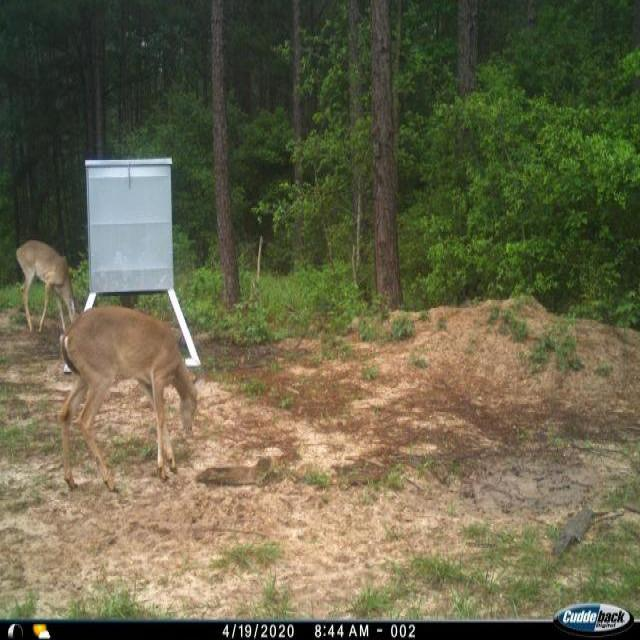deer: (56, 302, 208, 495), (13, 234, 80, 334)
